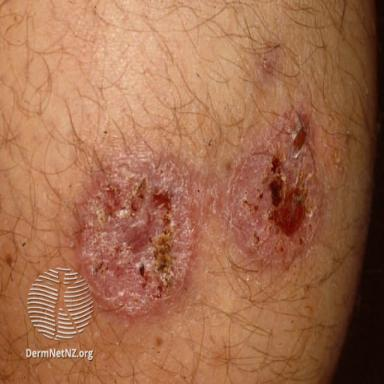Leishmanios: (78, 154, 199, 313), (227, 109, 317, 263)
